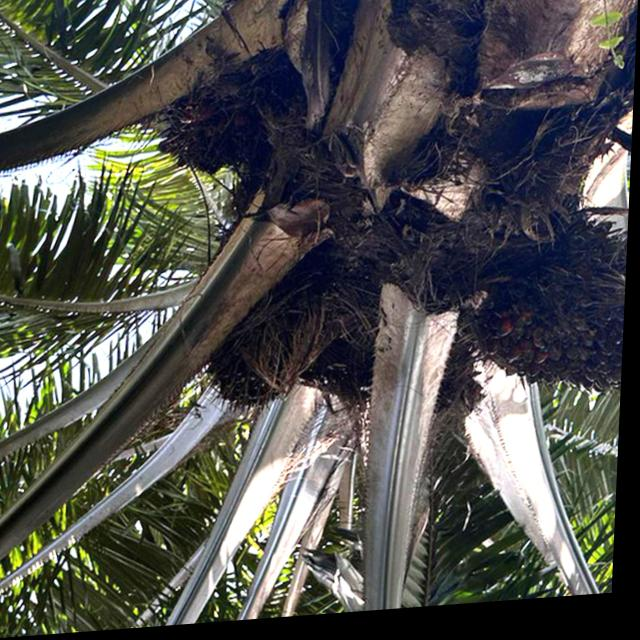unripe: (185, 263, 357, 434)
